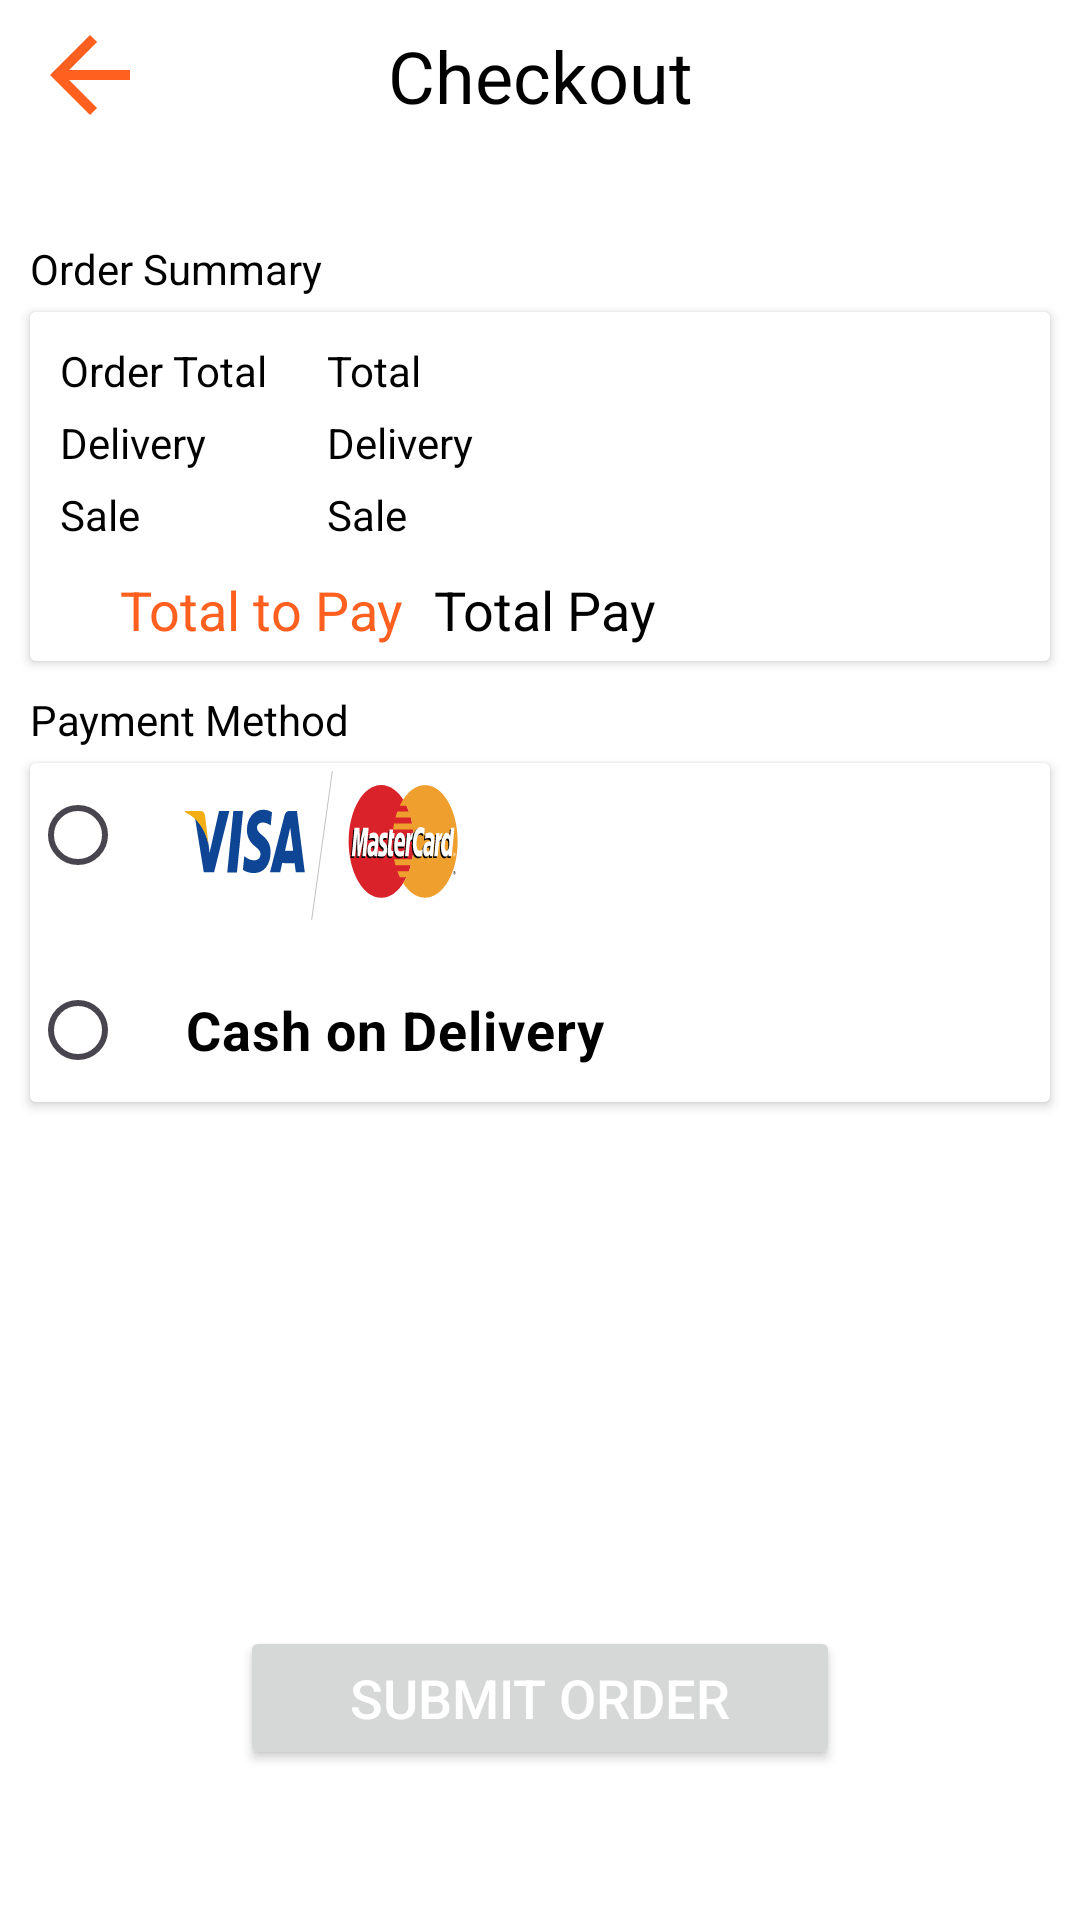

Icons on this 1080 x 1920 Android screen, each with its box as BBox(x1, y1, x2, y2):
arrow back: BBox(50, 35, 130, 115)
